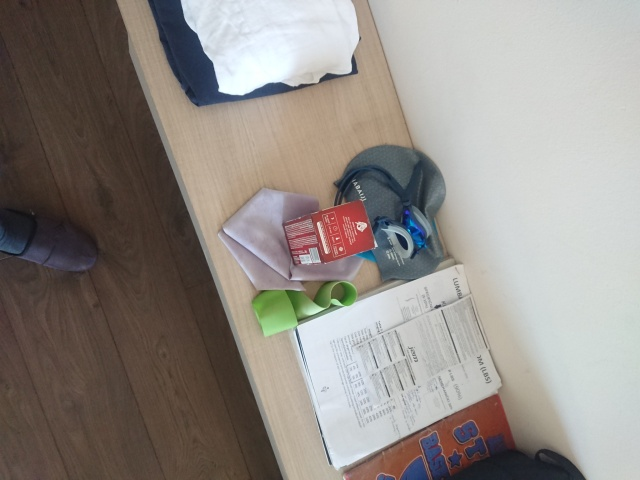Franck Apple Cinnamon Tea 60g: (280, 197, 379, 267)
